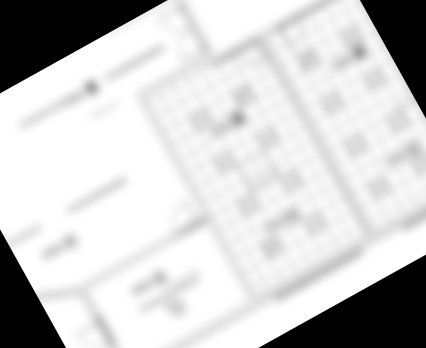door: (272, 11, 316, 54), (232, 36, 273, 78), (161, 198, 201, 237), (74, 319, 114, 348)
double door: (154, 3, 208, 66)
